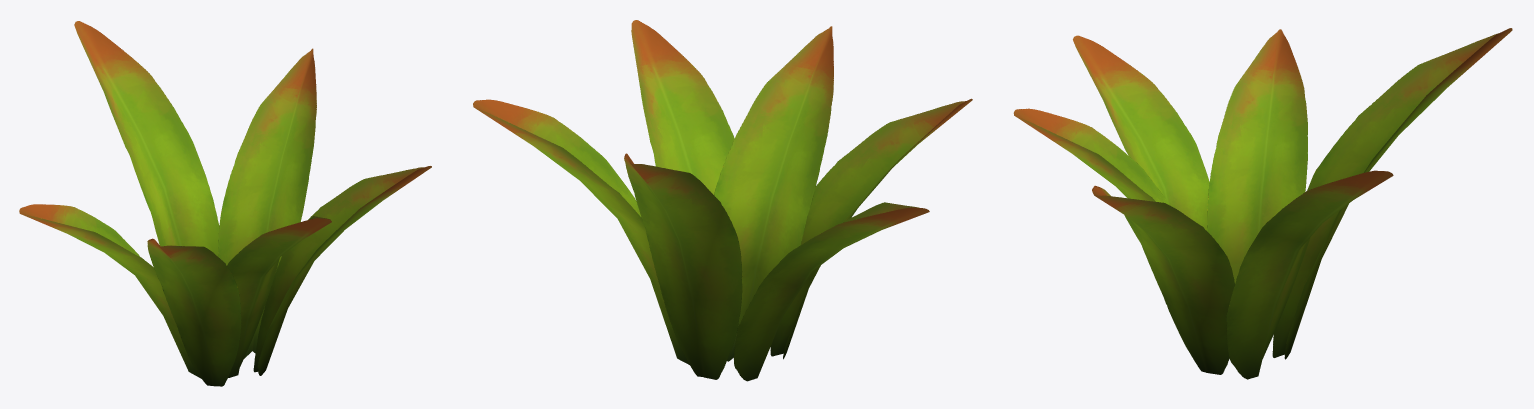
Rendered from Plant_1.gltf.
3 views of the same model, side by side, from view 1: azimuth 30°, elevation 25°; view 2: azimuth 150°, elevation 25°; view 3: azimuth 270°, elevation 25° (orthographic). The views are drawn at different scales.
Visible parts, largest first — view 1: Plant_1; view 2: Plant_1; view 3: Plant_1.
Part boxes in pixels (x1,y1,x2,y2): Plant_1: [19, 21, 431, 386]; Plant_1: [473, 20, 972, 381]; Plant_1: [1013, 28, 1512, 379].
Size of the model in its own units: 1.27 by 1.01 by 1.39.
Materials: 1 (1 with a texture image).
